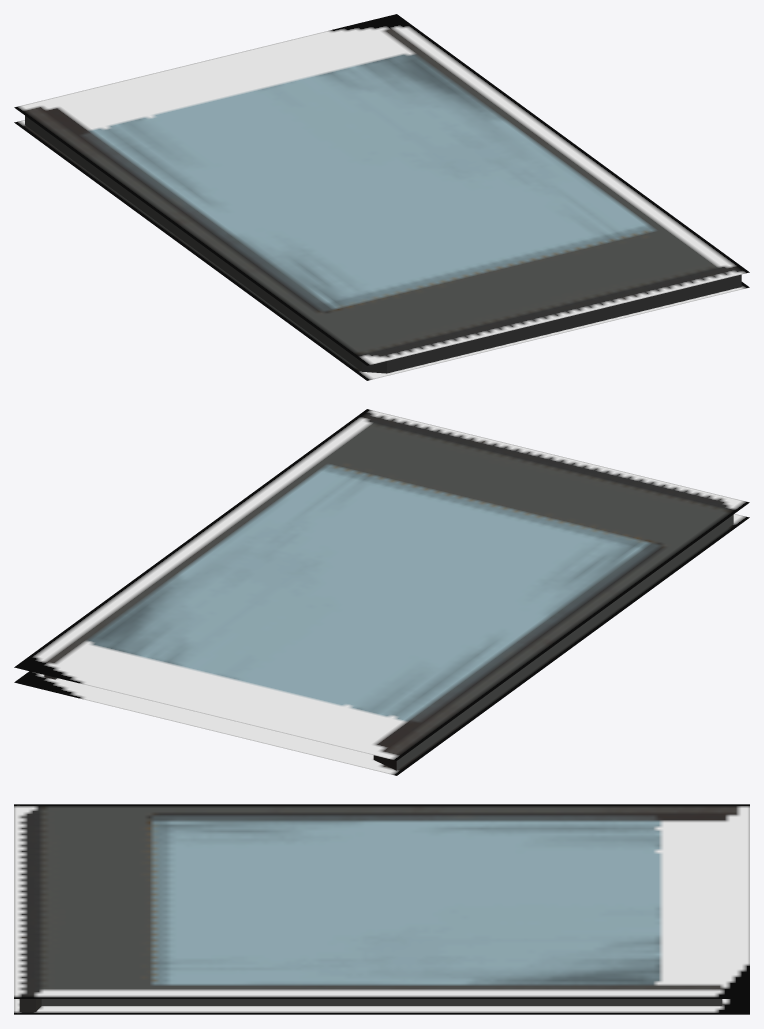
The model's file is pz_native_location_community_police_01_39_frame.obj.
3 renders of one model, top to bottom at view 1: azimuth 30°, elevation 25°; view 2: azimuth 150°, elevation 25°; view 3: azimuth 270°, elevation 25°, orthographic. The views are drawn at different scales.
Visible parts, largest first — view 1: pz_native_location_community_police_01_39_frame; view 2: pz_native_location_community_police_01_39_frame; view 3: pz_native_location_community_police_01_39_frame.
Part boxes in pixels (x1,y1,x2,y2): pz_native_location_community_police_01_39_frame: (14,14,749,380); pz_native_location_community_police_01_39_frame: (14,409,749,775); pz_native_location_community_police_01_39_frame: (14,804,749,1014).
Size of the model in its own units: 1.06 by 0.04 by 1.7.
1 material, 1 textured.
